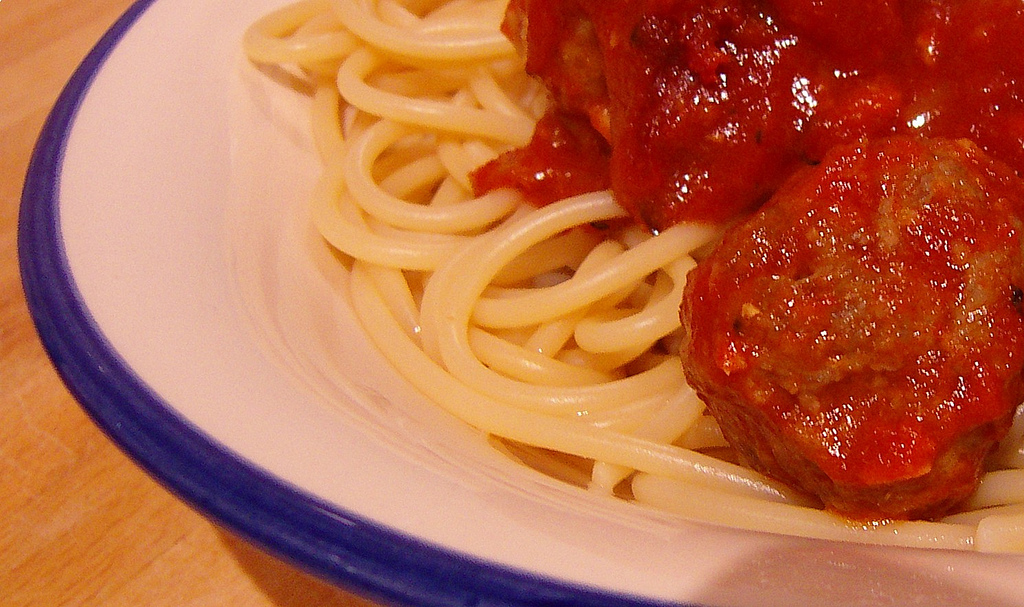meatballs: (699, 127, 1022, 516)
plain spaghetti: (231, 2, 733, 506)
